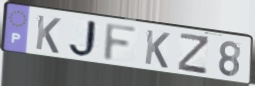8: (217, 40, 242, 78)
F: (101, 22, 141, 64)
J: (67, 19, 102, 59)
K: (34, 13, 63, 56), (143, 28, 172, 70)
Z: (176, 32, 211, 77)
